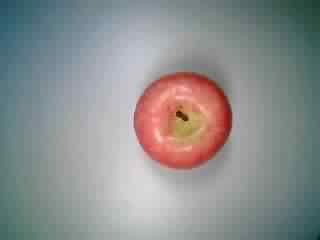apple: (132, 68, 237, 170)
